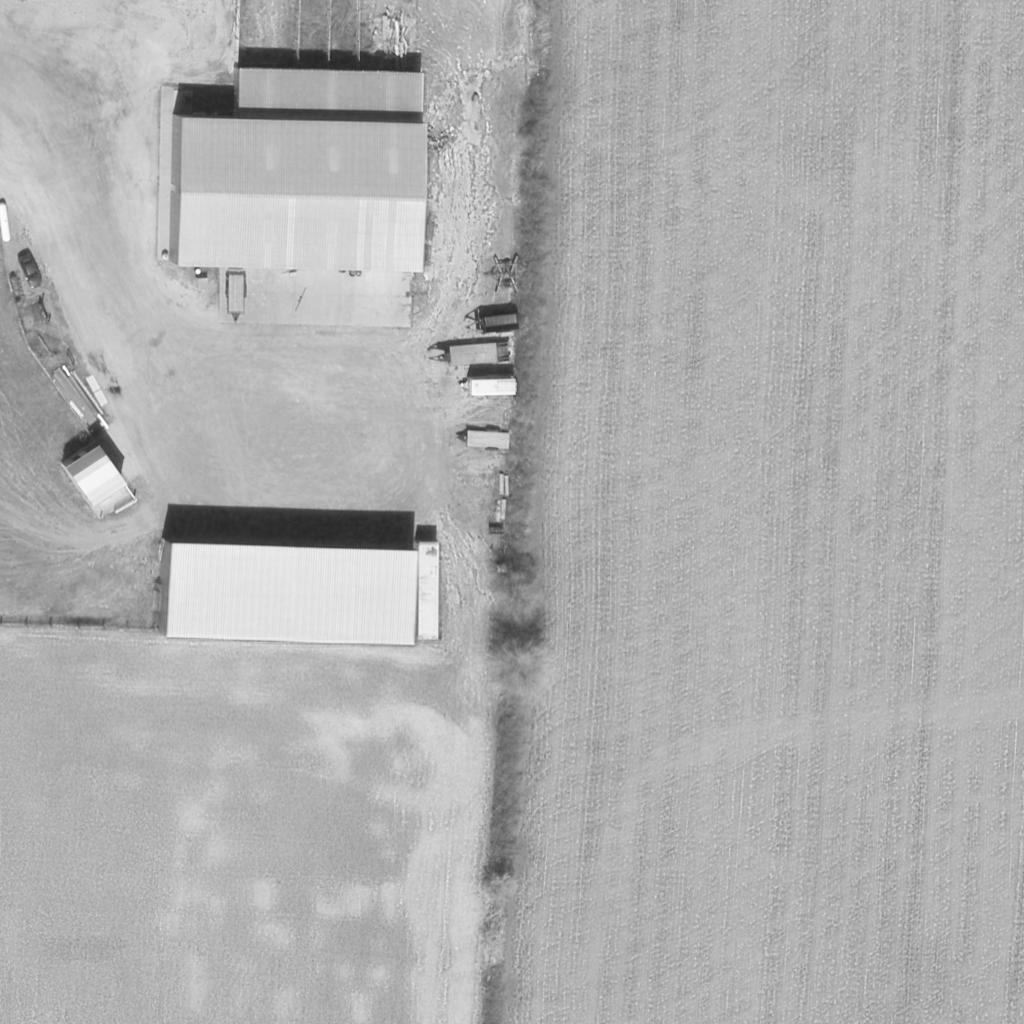vehicle: (18, 253, 44, 289)
